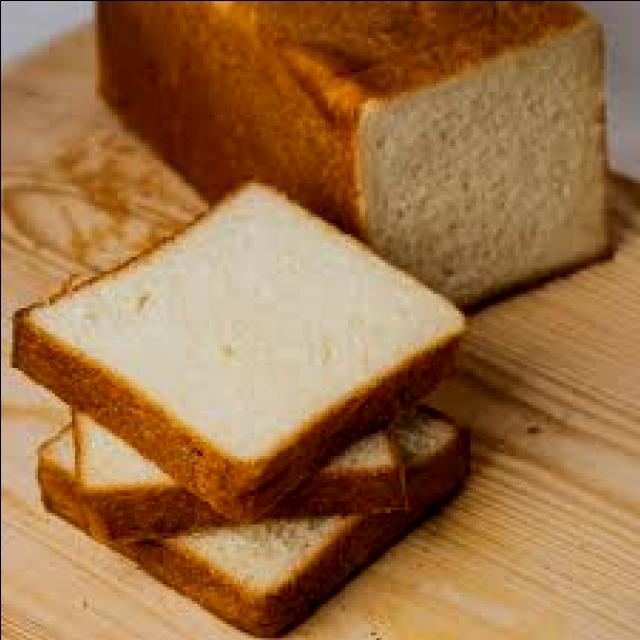roti tawar: (9, 179, 466, 523)
